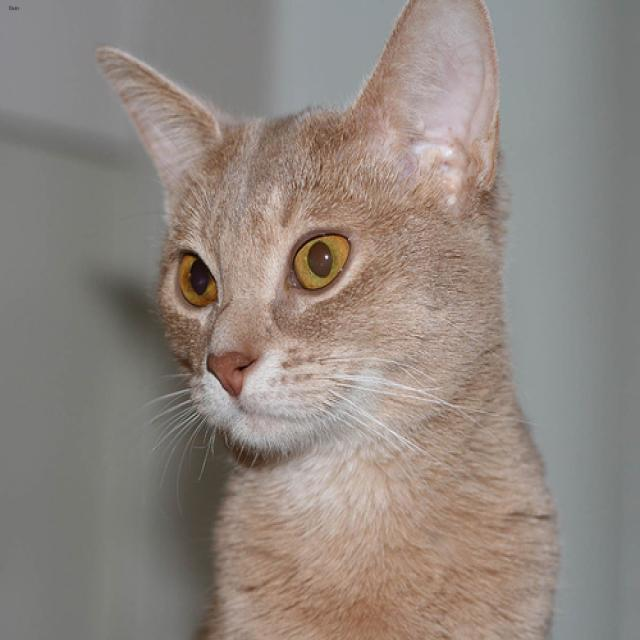Abyssinian: (94, 0, 497, 448)
